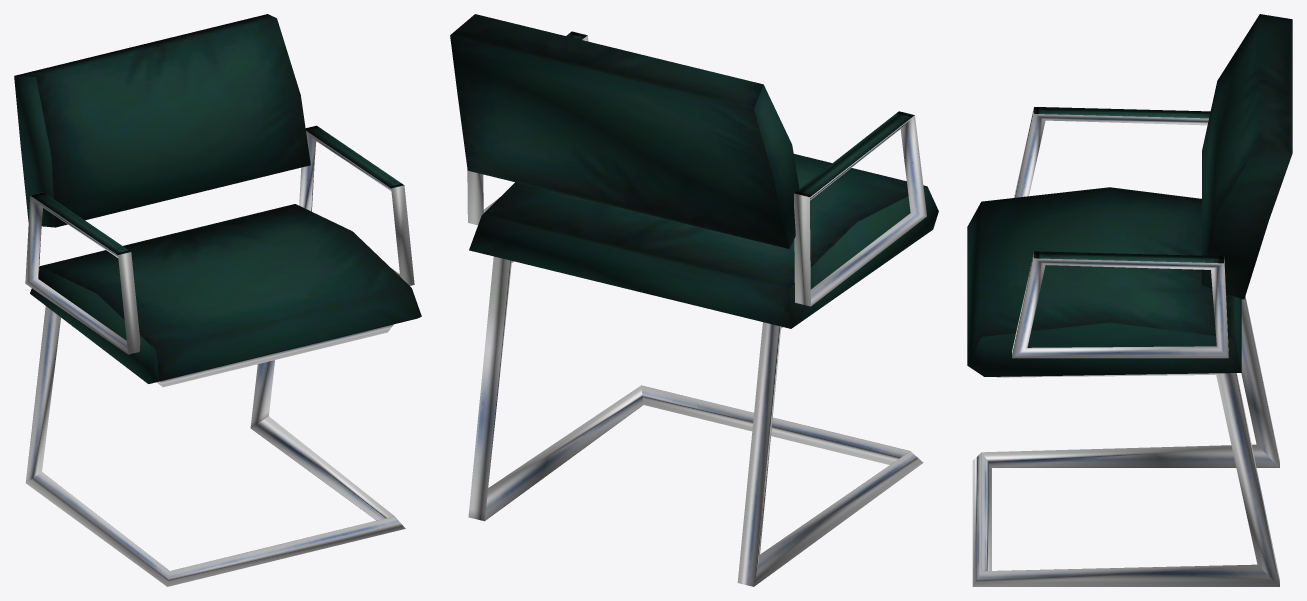
Rendered from chr_med_hi_mtlgrn.fbx.
The picture shows the model from 3 angles, left to right: view 1: azimuth 30°, elevation 25°; view 2: azimuth 150°, elevation 25°; view 3: azimuth 270°, elevation 25°; orthographic projection. The views are drawn at different scales.
Parts seen in each view (by area): view 1: mesh_0; view 2: mesh_0; view 3: mesh_0.
Boxes of the visible parts, x1=… form: mesh_0: x1=14, y1=14, x2=421, y2=586; mesh_0: x1=450, y1=14, x2=938, y2=586; mesh_0: x1=967, y1=14, x2=1292, y2=586.
Size of the model in its own units: 62.24 by 84.81 by 55.86.
1 material, 1 textured.
